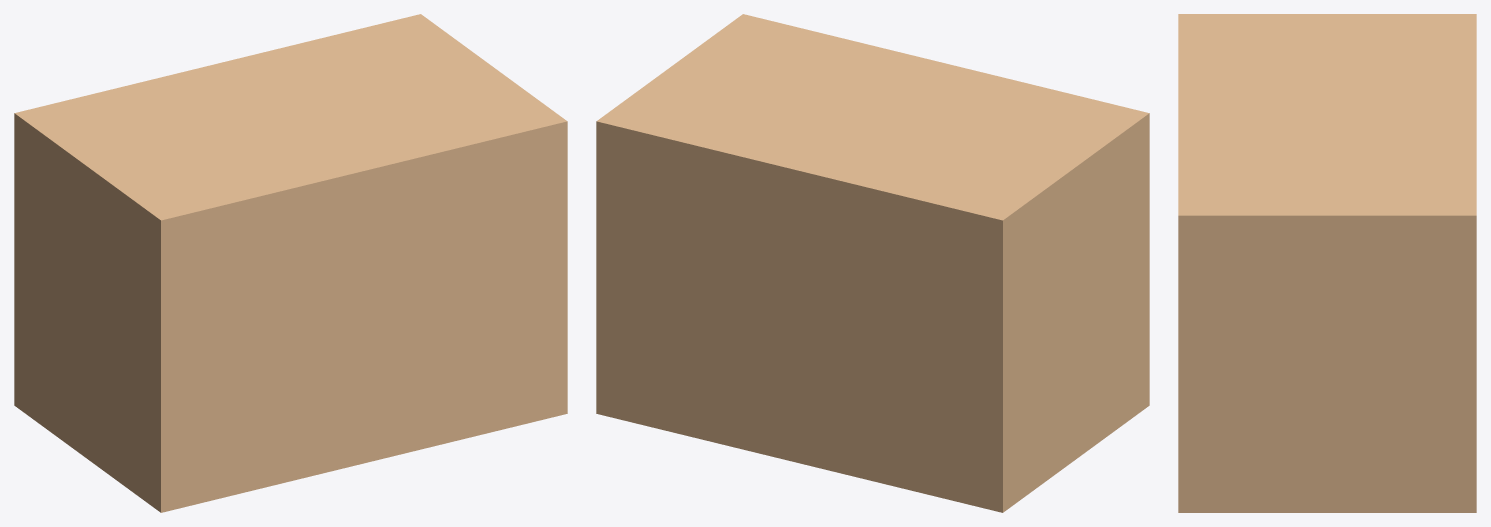
Rendered from hitbox1.glb.
3 renders of one model, left to right at view 1: azimuth 30°, elevation 25°; view 2: azimuth 150°, elevation 25°; view 3: azimuth 270°, elevation 25°, orthographic.
Bounding box in the file's own units: 4 × 2.75 × 2.5.
